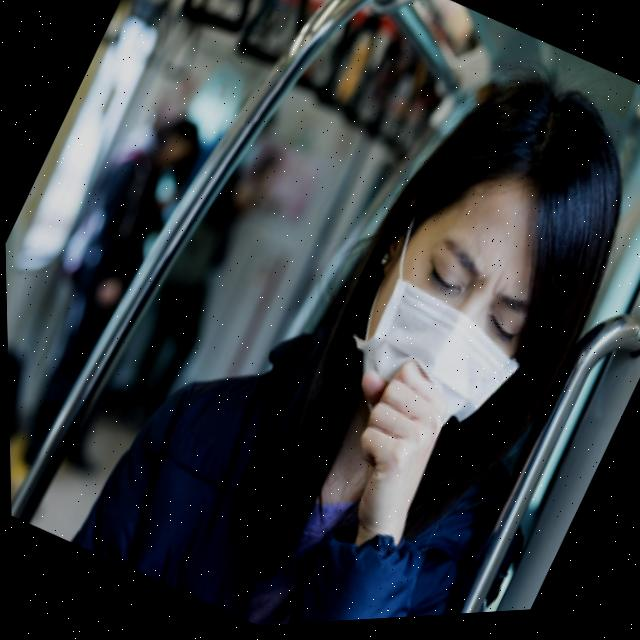Mask: (307, 191, 569, 480)
